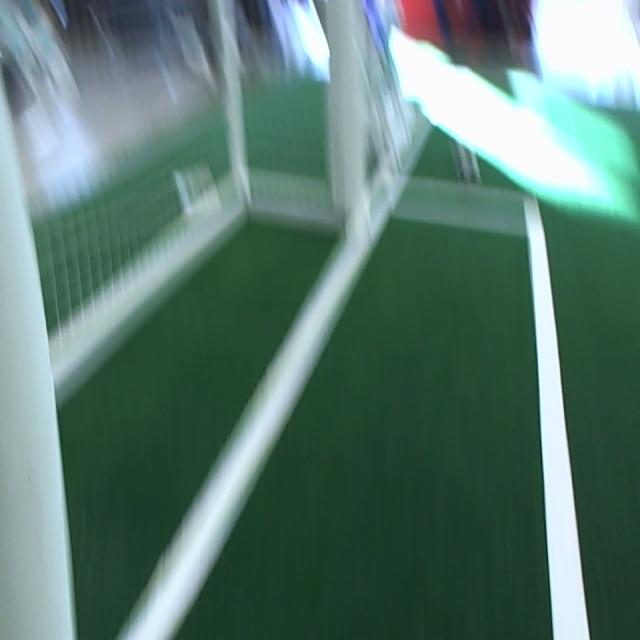ball: (449, 139, 484, 190)
goalpost: (0, 72, 74, 638), (336, 6, 366, 228)
